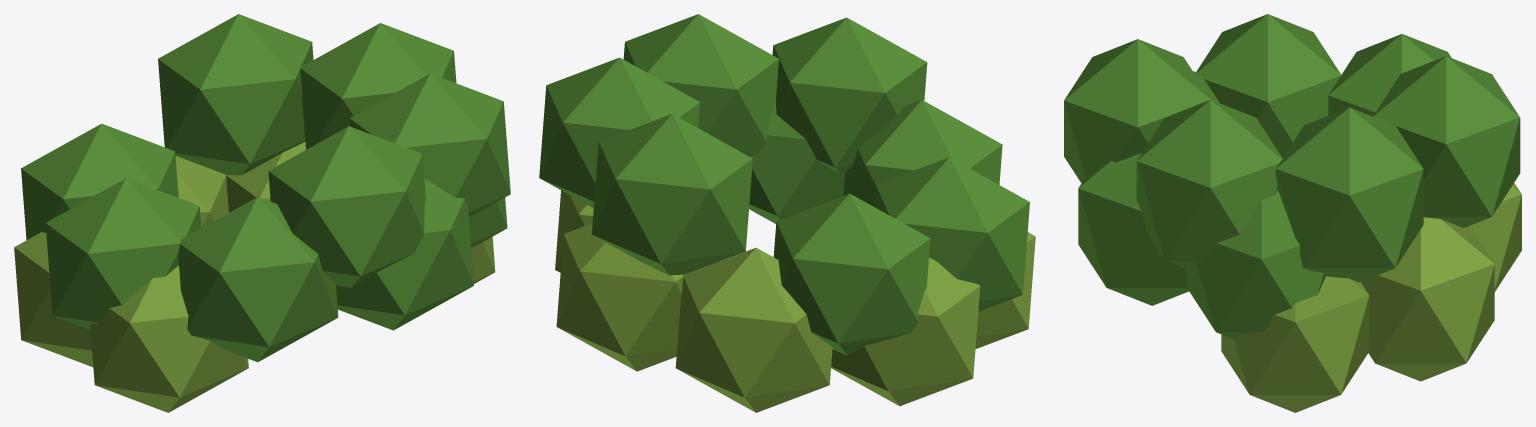
The model's file is bush.glb.
The picture shows the model from 3 angles, left to right: view 1: azimuth 30°, elevation 25°; view 2: azimuth 150°, elevation 25°; view 3: azimuth 270°, elevation 25°; orthographic projection. The views are drawn at different scales.
Visible parts, largest first — view 1: BushMesh; view 2: BushMesh; view 3: BushMesh.
Part boxes in pixels (x1,y1,x2,y2): BushMesh: (14, 14, 510, 412); BushMesh: (539, 14, 1035, 412); BushMesh: (1064, 14, 1521, 412).
Bounding box in the file's own units: 1.42 × 0.84 × 1.16.
